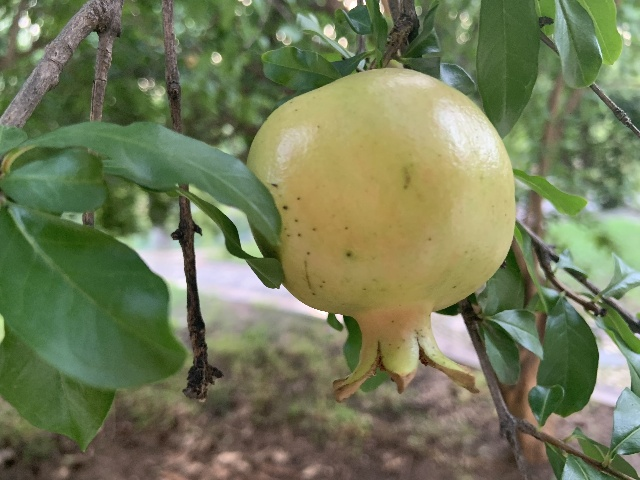mid-growth: (249, 65, 515, 408)
